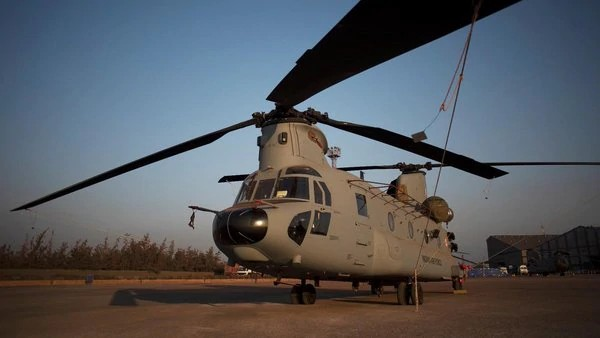chinook: (152, 30, 512, 311)
